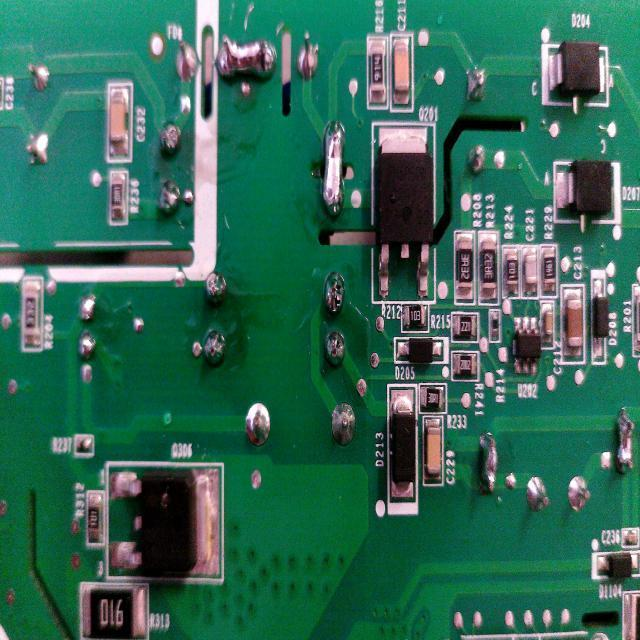Soldering shorted: (212, 32, 280, 104), (318, 116, 348, 224), (606, 412, 638, 482), (477, 432, 498, 506)
